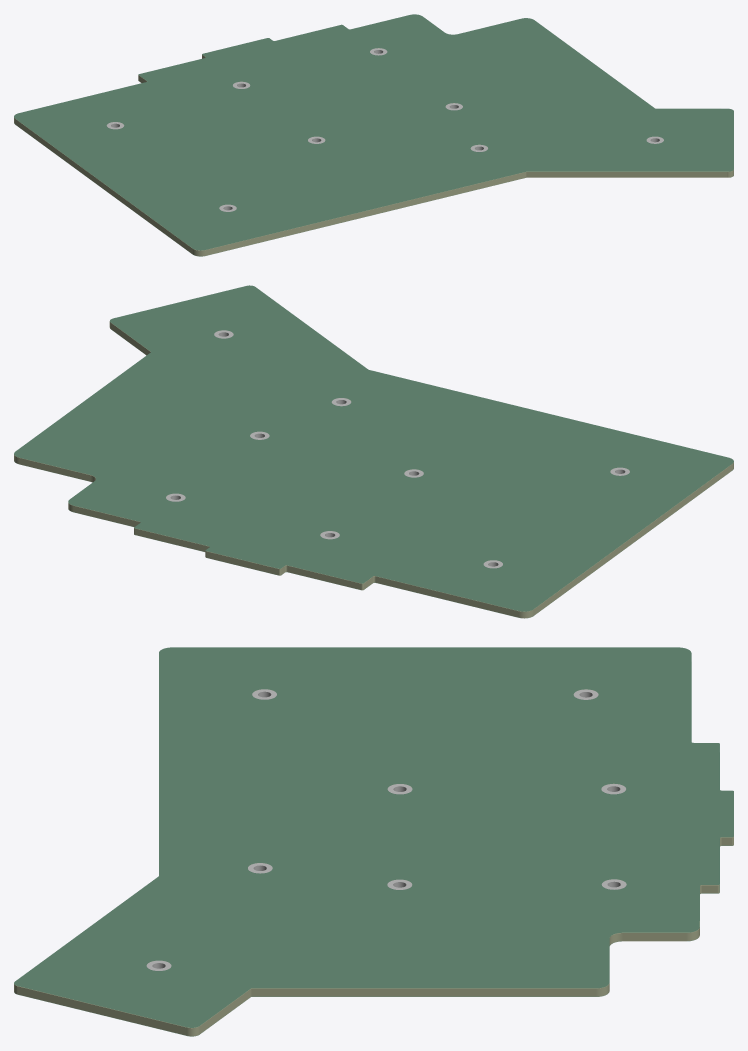
Rendered from board.glb.
3 views of the same model, one above another, from view 1: azimuth 30°, elevation 25°; view 2: azimuth 150°, elevation 25°; view 3: azimuth 270°, elevation 25° (orthographic). The views are drawn at different scales.
Visible parts, largest first — view 1: board_PCB, board_soldermask, board_pad; view 2: board_PCB, board_soldermask, board_pad; view 3: board_PCB, board_soldermask, board_pad.
Boxes of the visible parts, x1,y1,x2,y2 form: board_PCB: [14, 15, 733, 256]; board_soldermask: [14, 14, 733, 250]; board_pad: [106, 48, 663, 211]; board_PCB: [14, 286, 733, 618]; board_soldermask: [14, 285, 733, 611]; board_pad: [166, 330, 629, 568]; board_PCB: [14, 648, 733, 1036]; board_soldermask: [14, 647, 733, 1027]; board_pad: [146, 689, 626, 970].
Bounding box in the file's own units: 0.1515 × 0.00161 × 0.1212.
